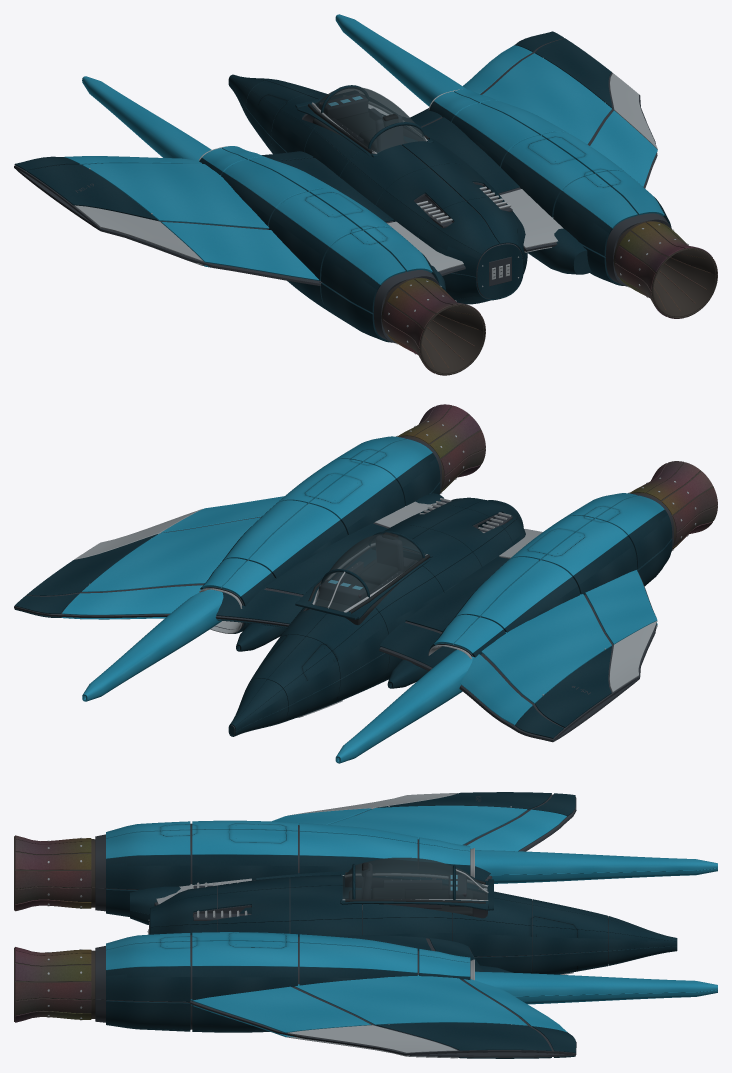
3 views of the same model, one above another, from view 1: azimuth 30°, elevation 25°; view 2: azimuth 150°, elevation 25°; view 3: azimuth 270°, elevation 25° (orthographic).
Parts seen in each view (by area): view 1: Fitted lifting skin.003, Aft pressure bulkhead, Fuselage fitted skin 00.0, Swept inlet guide vane, Aft avionics recess, Sealed avionics connector, Formed heat alloy nozzle petal, Thin laminated canopy glazing, Connector protected contact, Pressure hull substrate; view 2: Fitted lifting skin.003, Aft pressure bulkhead, Fuselage fitted skin 00.0, Formed heat alloy nozzle petal, Aft avionics recess, Sealed avionics connector, Thin laminated canopy glazing, Connector protected contact, Swept inlet guide vane; view 3: Fitted lifting skin.003, Aft pressure bulkhead, Fuselage fitted skin 00.0, Formed heat alloy nozzle petal, Aft avionics recess, Thin laminated canopy glazing, Sealed avionics connector, Connector protected contact, Swept inlet guide vane, Pressure hull substrate.
Boxes of the visible parts, bbox=[...] form: Fitted lifting skin.003: bbox=[64, 14, 664, 284]; Aft pressure bulkhead: bbox=[14, 31, 671, 342]; Fuselage fitted skin 00.0: bbox=[271, 92, 526, 276]; Swept inlet guide vane: bbox=[381, 221, 717, 375]; Aft avionics recess: bbox=[14, 38, 671, 343]; Sealed avionics connector: bbox=[74, 57, 688, 354]; Formed heat alloy nozzle petal: bbox=[383, 221, 717, 375]; Thin laminated canopy glazing: bbox=[314, 86, 425, 152]; Connector protected contact: bbox=[308, 103, 509, 277]; Pressure hull substrate: bbox=[302, 107, 522, 298]; Fitted lifting skin.003: bbox=[62, 436, 664, 763]; Aft pressure bulkhead: bbox=[14, 453, 672, 738]; Fuselage fitted skin 00.0: bbox=[277, 497, 525, 678]; Formed heat alloy nozzle petal: bbox=[397, 404, 717, 549]; Aft avionics recess: bbox=[14, 436, 673, 742]; Sealed avionics connector: bbox=[74, 421, 696, 717]; Thin laminated canopy glazing: bbox=[314, 533, 425, 611]; Connector protected contact: bbox=[308, 532, 429, 624]; Swept inlet guide vane: bbox=[402, 405, 717, 544]; Fitted lifting skin.003: bbox=[106, 805, 717, 1037]; Aft pressure bulkhead: bbox=[106, 792, 677, 1058]; Fuselage fitted skin 00.0: bbox=[150, 875, 531, 956]; Formed heat alloy nozzle petal: bbox=[15, 835, 91, 1022]; Aft avionics recess: bbox=[95, 794, 576, 1057]; Thin laminated canopy glazing: bbox=[342, 857, 488, 900]; Sealed avionics connector: bbox=[47, 793, 573, 1058]; Connector protected contact: bbox=[147, 862, 485, 931]; Swept inlet guide vane: bbox=[14, 836, 95, 1021]; Pressure hull substrate: bbox=[193, 877, 613, 973].
Bounding box in the file's own units: 3.02 × 0.7099 × 3.47.
Materials: 9 (3 with a texture image).
